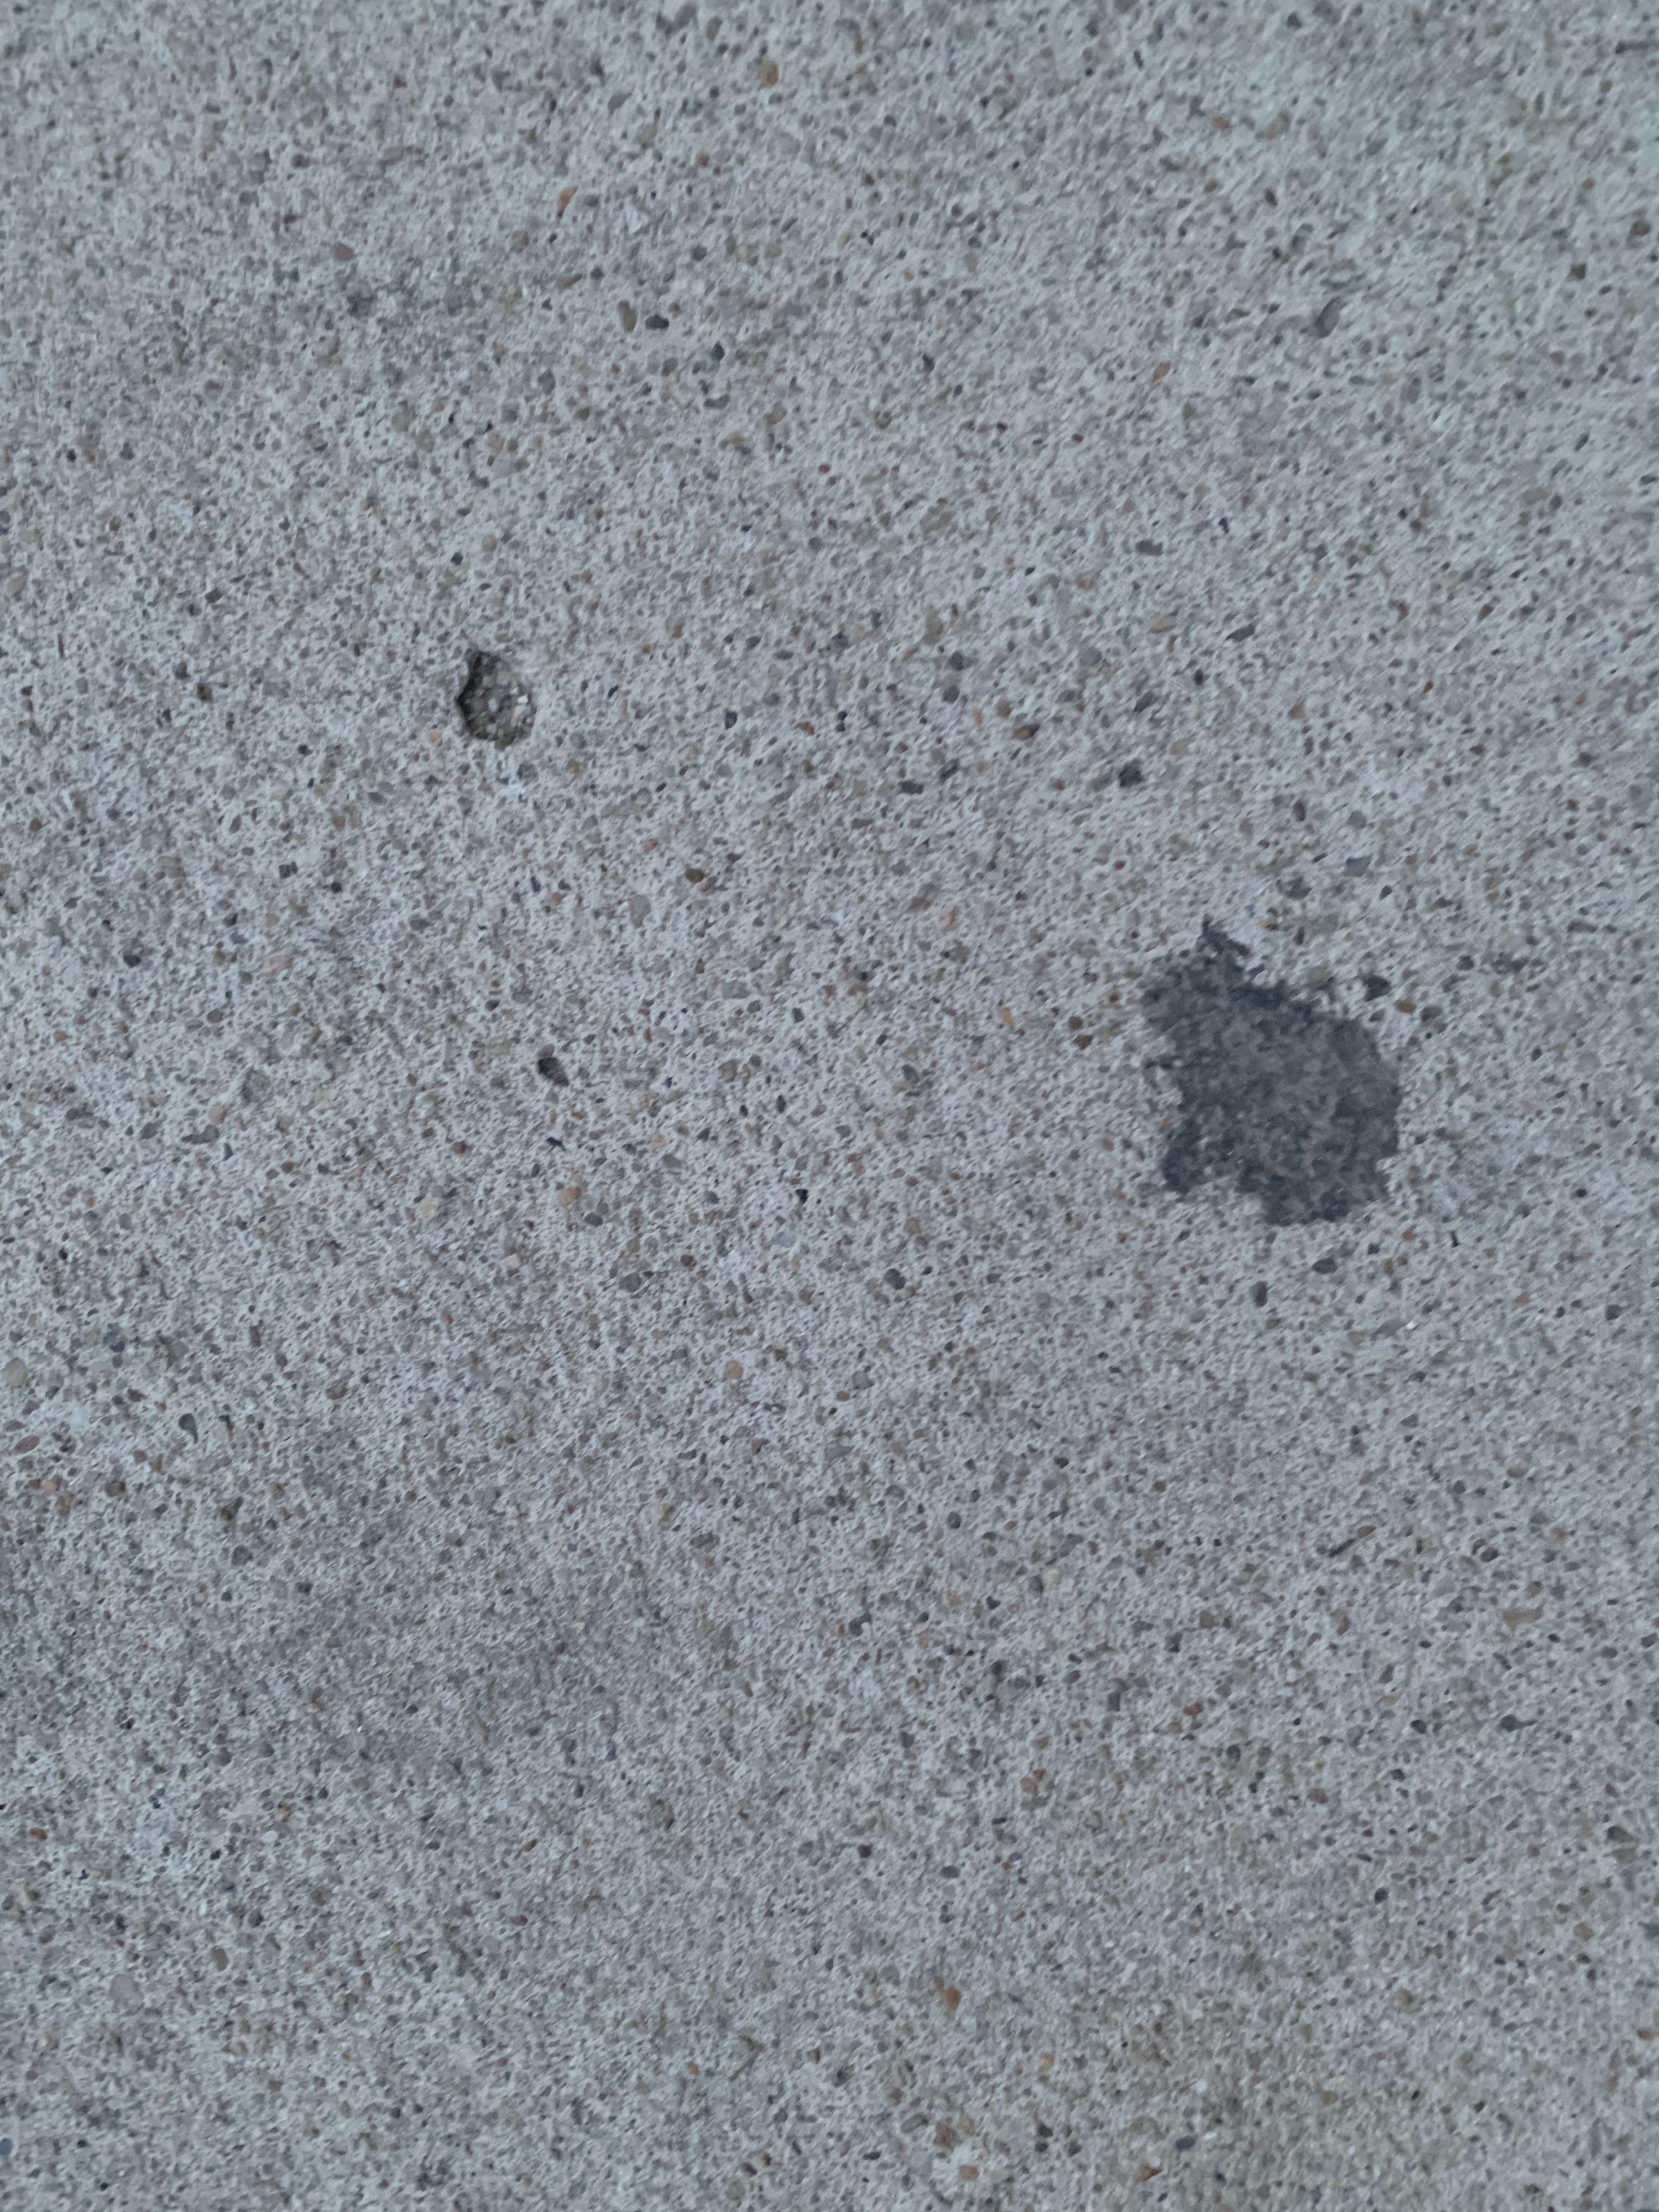grey spot: (1141, 925, 1408, 1233), (451, 643, 538, 752)
